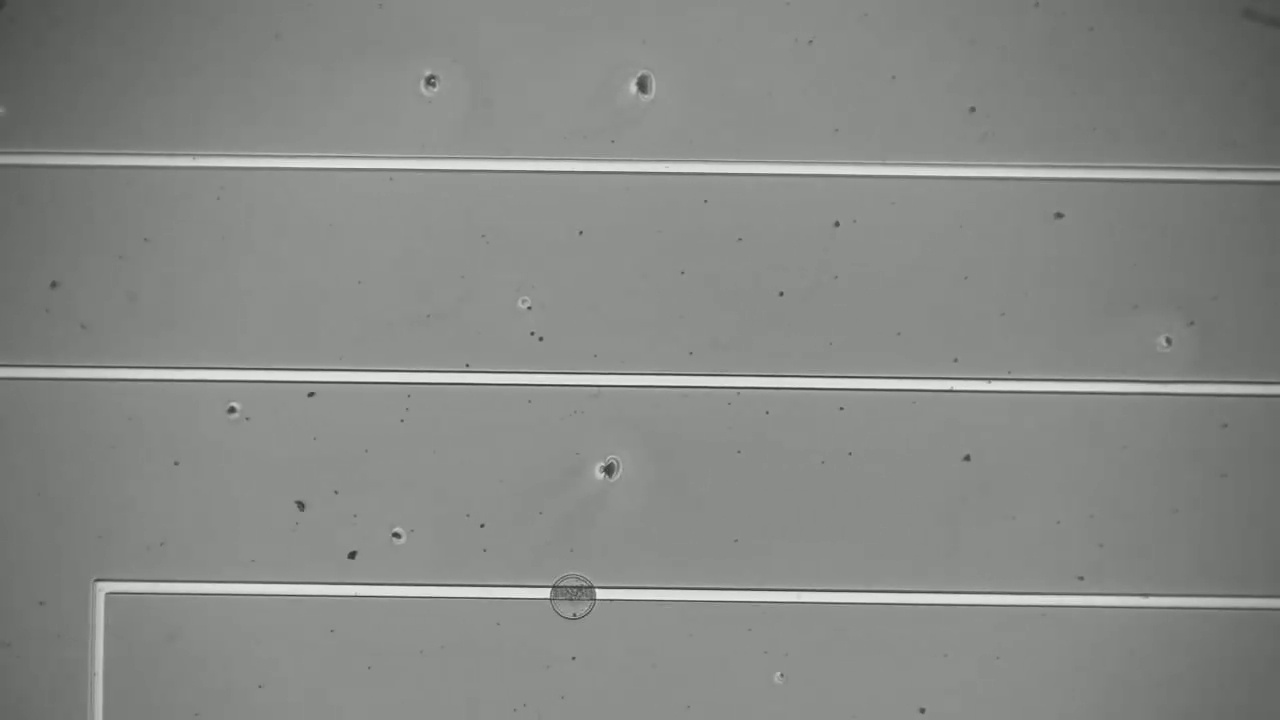gray_line: (537, 576, 610, 609)
